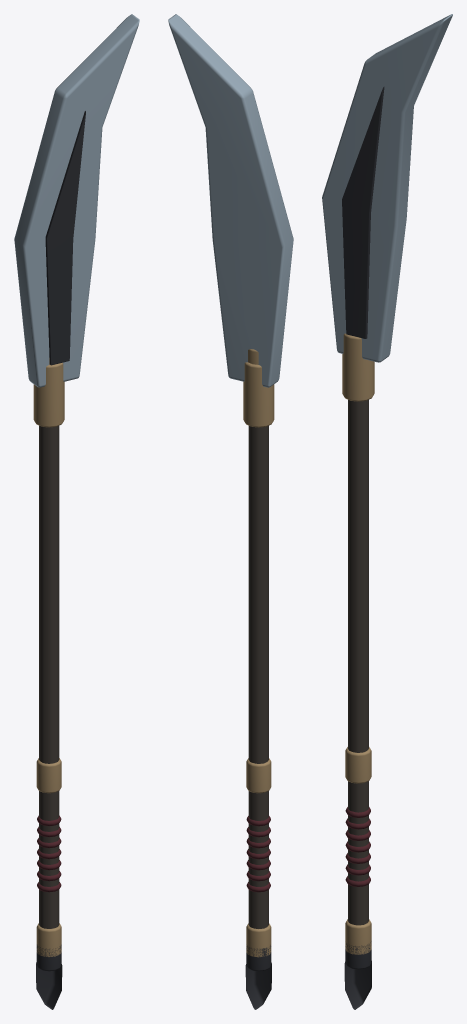
File: moon-harvest.glb
3 renders of one model, left to right at view 1: azimuth 30°, elevation 25°; view 2: azimuth 150°, elevation 25°; view 3: azimuth 330°, elevation 25°, orthographic. The views are drawn at different scales.
Visible parts, largest first — view 1: Glaive sweeping edge, Walnut haft.004, Glaive spine inlay, Glaive collar, Glaive faceted heel, Brass ferrule.013, Brass ferrule.012, Fitted bottom socket.002; view 2: Glaive sweeping edge, Walnut haft.004, Glaive collar, Glaive faceted heel, Brass ferrule.013, Brass ferrule.012, Fitted bottom socket.002; view 3: Glaive sweeping edge, Walnut haft.004, Glaive spine inlay, Glaive collar, Glaive faceted heel, Brass ferrule.013, Brass ferrule.012, Fitted bottom socket.002.
Part boxes in pixels (x1,y1,x2,y2): Glaive sweeping edge: [14, 14, 139, 387]; Walnut haft.004: [39, 425, 59, 928]; Glaive spine inlay: [45, 111, 85, 365]; Glaive collar: [33, 362, 64, 427]; Glaive faceted heel: [36, 962, 62, 1009]; Brass ferrule.013: [36, 758, 61, 793]; Brass ferrule.012: [36, 923, 61, 956]; Fitted bottom socket.002: [36, 944, 61, 971]; Glaive sweeping edge: [168, 14, 293, 387]; Walnut haft.004: [248, 425, 268, 928]; Glaive collar: [243, 362, 274, 427]; Glaive faceted heel: [245, 962, 271, 1009]; Brass ferrule.013: [246, 758, 271, 793]; Brass ferrule.012: [246, 923, 271, 957]; Fitted bottom socket.002: [246, 945, 271, 971]; Glaive sweeping edge: [322, 14, 452, 362]; Walnut haft.004: [348, 399, 368, 925]; Glaive spine inlay: [342, 86, 384, 338]; Glaive collar: [342, 333, 374, 401]; Glaive faceted heel: [344, 961, 371, 1009]; Brass ferrule.013: [345, 747, 371, 783]; Brass ferrule.012: [345, 919, 371, 954]; Fitted bottom socket.002: [345, 941, 371, 969].
Size of the model in its own units: 0.3342 by 2.64 by 0.076.
